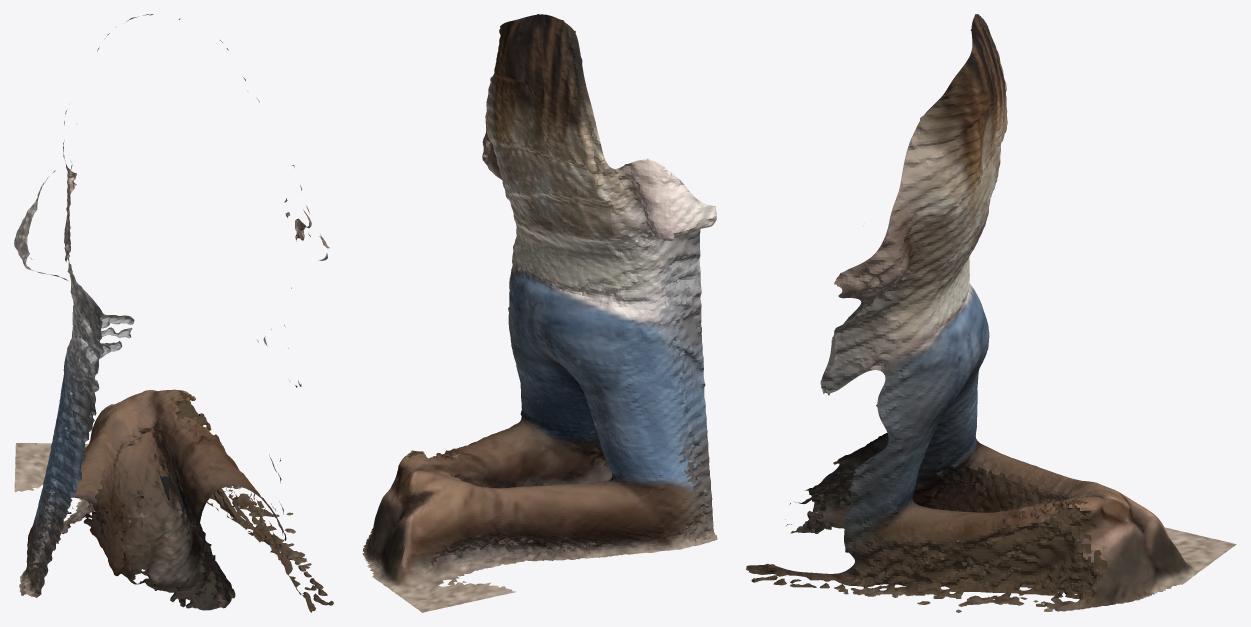
3 renders of one model, left to right at view 1: azimuth 30°, elevation 25°; view 2: azimuth 150°, elevation 25°; view 3: azimuth 270°, elevation 25°, orthographic. The views are drawn at different scales.
Bounding box in the file's own units: 0.5836 × 1.02 × 0.8631.
1 material, 1 textured.
